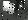person: (4, 3, 11, 15), (18, 1, 25, 11), (10, 4, 15, 15)
